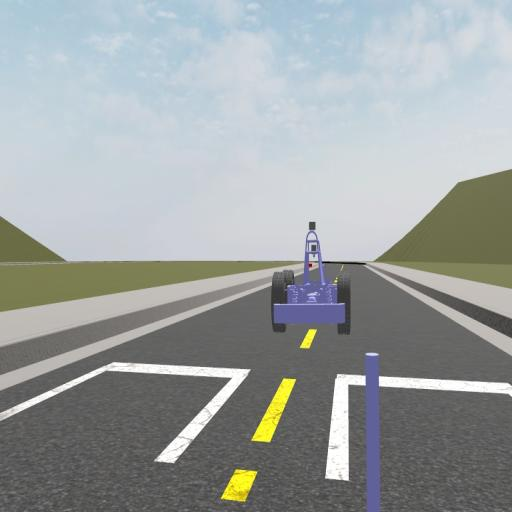ERP-42: (272, 222, 351, 337)
